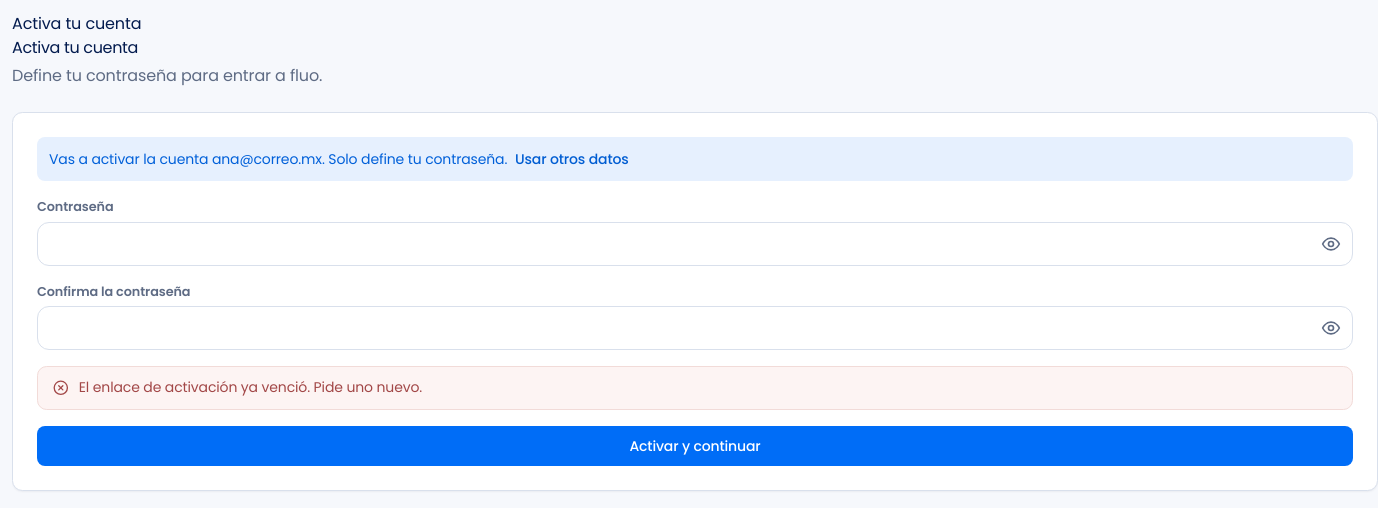
Test: activar la cuenta › si el enlace venció, pide uno nuevo al mismo correo
Type "contraseña-segura-1" into the password field labelled "Contraseña".
click(695, 244); type("contraseña-segura-1")  # box x1=37 y1=222 x2=1353 y2=266
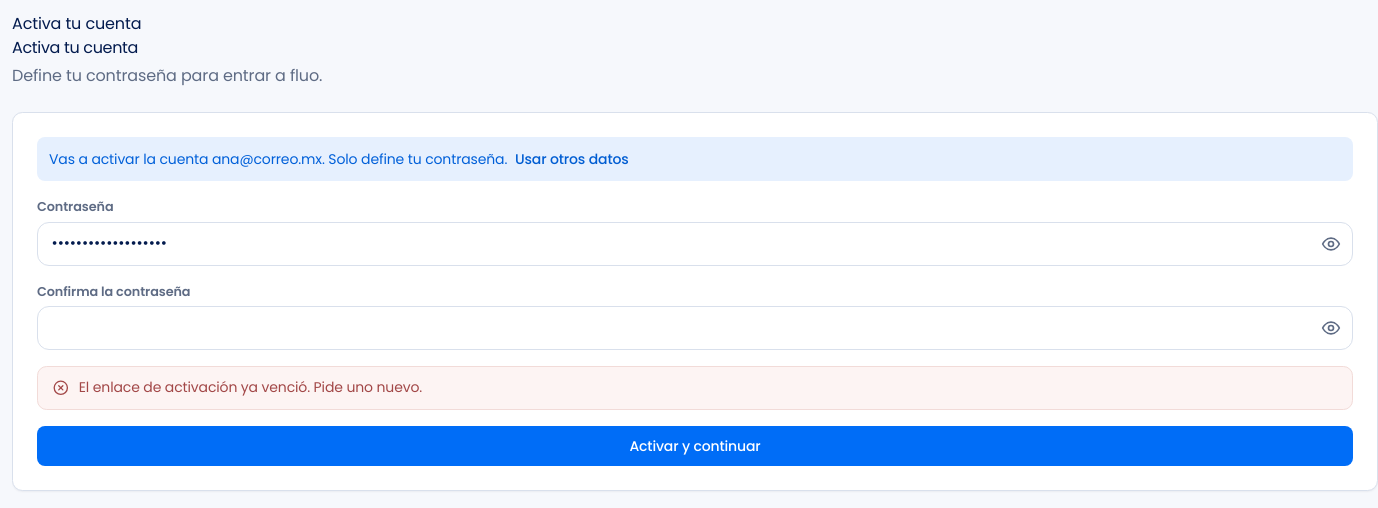
Type "contraseña-segura-1" into the password field labelled "Confirma la contraseña".
click(695, 328); type("contraseña-segura-1")  # box x1=37 y1=306 x2=1353 y2=350
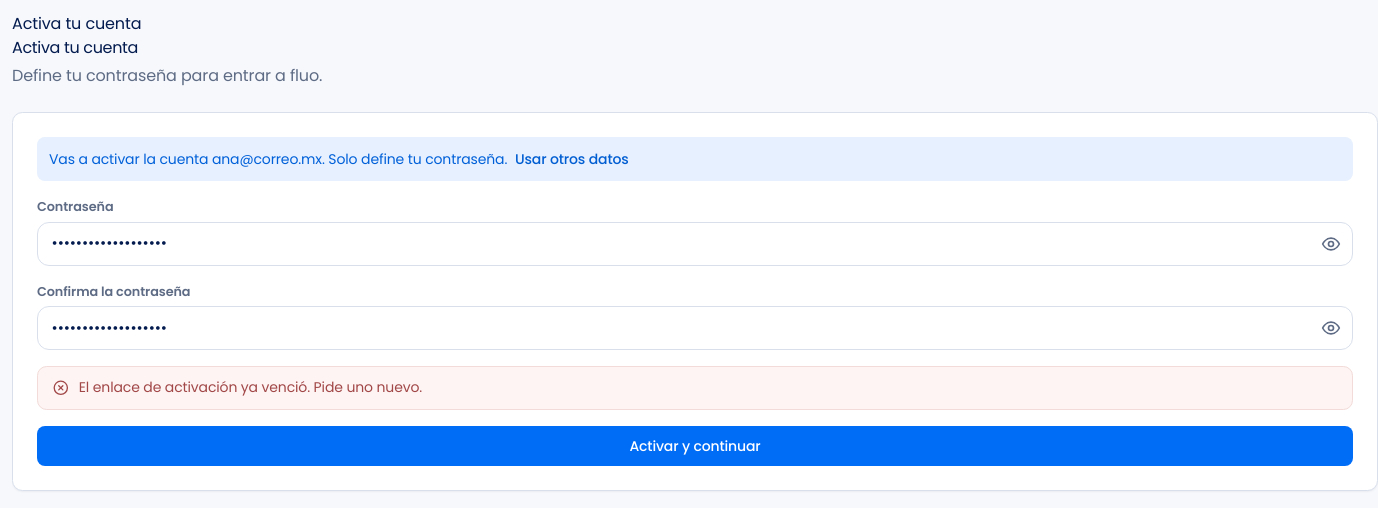
Submit the form
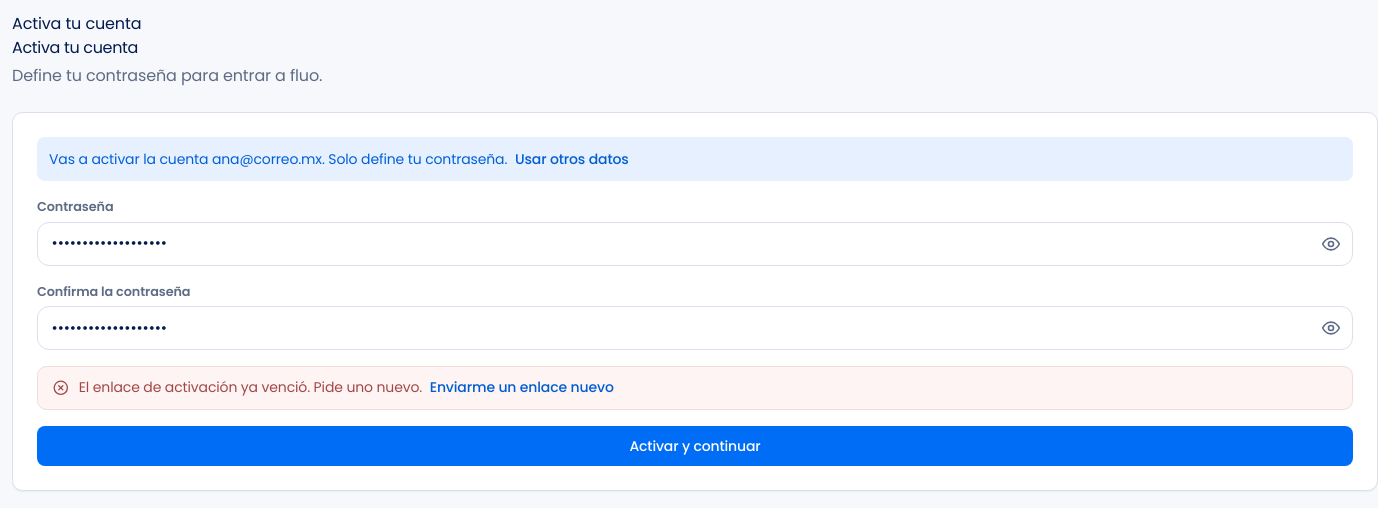
Expected: the text "ya venció" is shown, x1=79 y1=377 x2=426 y2=397
Click the button "Enviarme un enlace nuevo".
click(522, 388)  # box x1=430 y1=377 x2=614 y2=398
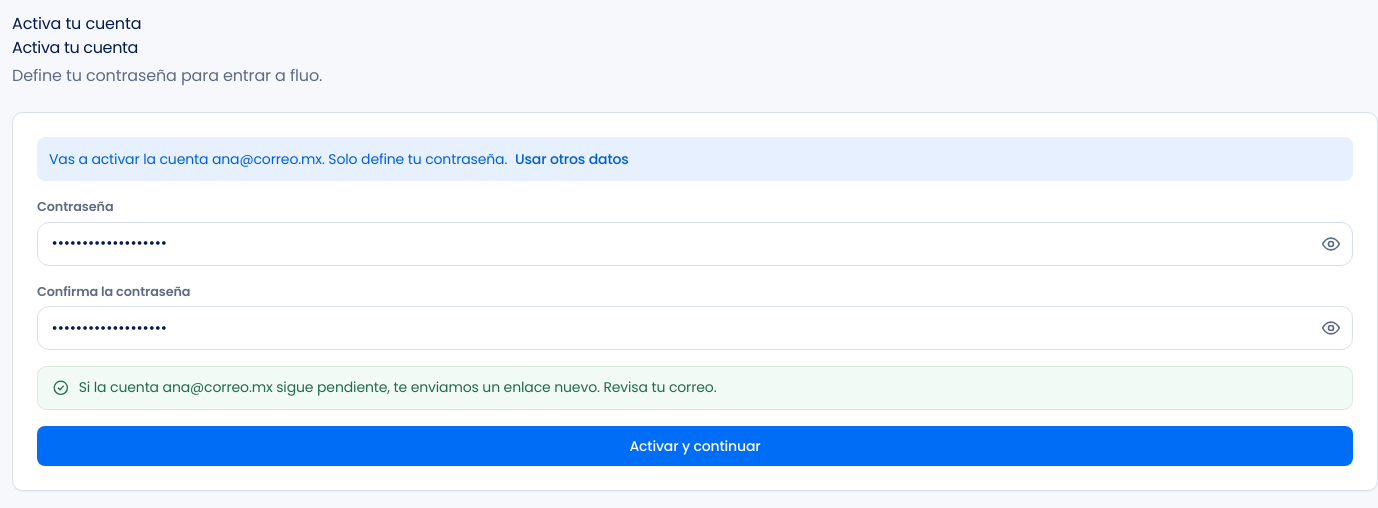
Now the message shows "ana@correo.mx", box x1=79 y1=377 x2=716 y2=397
